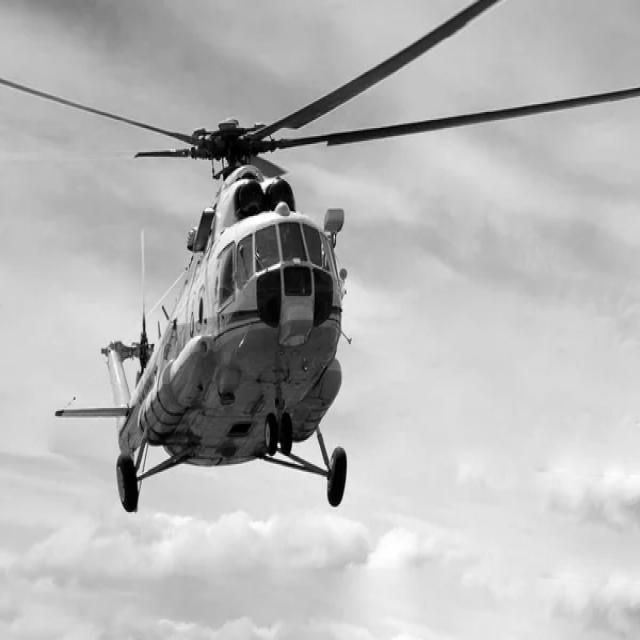Helicopter: (1, 0, 572, 513)
